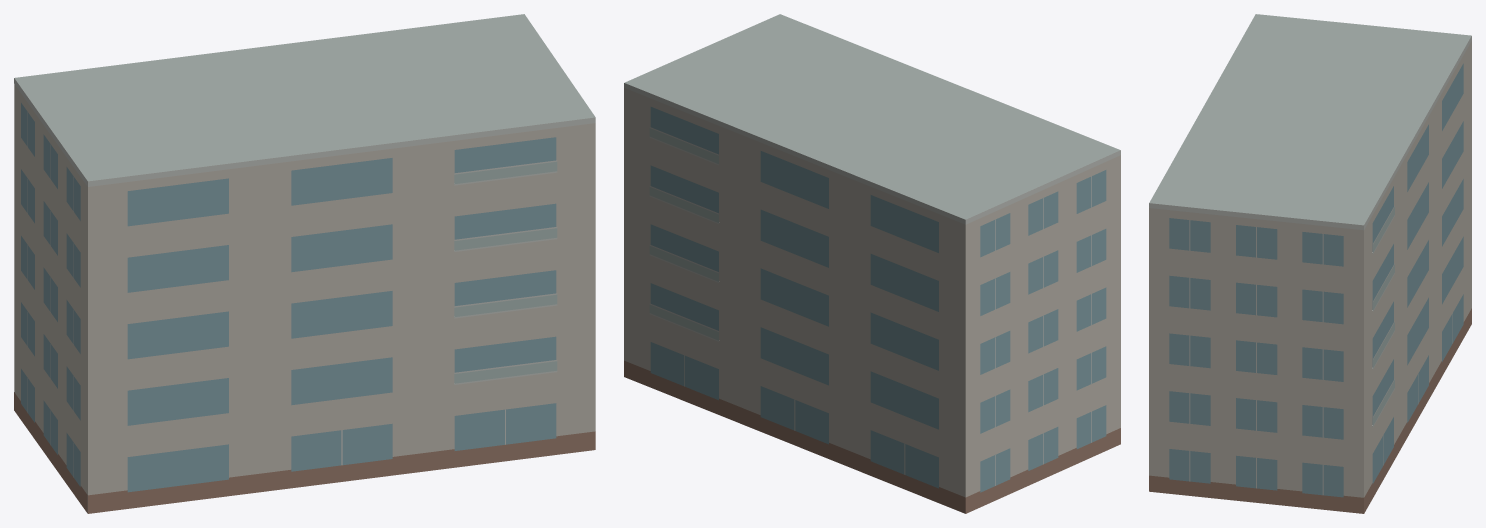
The model's file is survey-upis-32704542.glb.
The picture shows the model from 3 angles, left to right: view 1: azimuth 30°, elevation 25°; view 2: azimuth 150°, elevation 25°; view 3: azimuth 270°, elevation 25°; orthographic projection. The views are drawn at different scales.
Visible parts, largest first — view 1: survey-upis-32704542.tmp; view 2: survey-upis-32704542.tmp; view 3: survey-upis-32704542.tmp.
Boxes of the visible parts, left/top/right/bottom form: survey-upis-32704542.tmp: left=14, top=14, right=595, bottom=513; survey-upis-32704542.tmp: left=624, top=14, right=1120, bottom=513; survey-upis-32704542.tmp: left=1149, top=14, right=1471, bottom=513.
Size of the model in its own units: 22.71 by 14.45 by 14.66.
